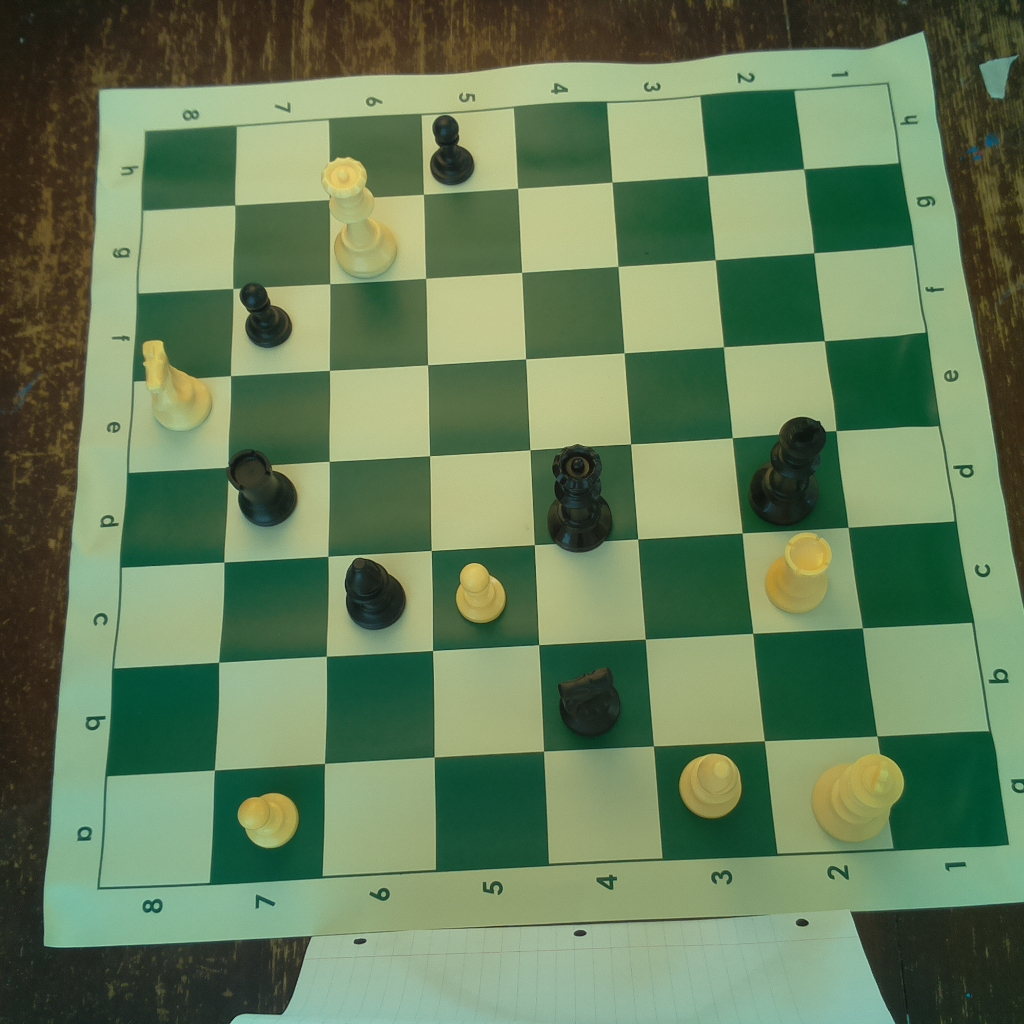black_bishop: (344, 556, 408, 632)
black_king: (750, 414, 829, 527)
black_knight: (553, 656, 624, 740)
black_pawn: (237, 278, 297, 348), (427, 109, 479, 188)
black_queen: (545, 439, 616, 556)
black_rook: (225, 441, 301, 527)
file_a: (99, 731, 1011, 890)
file_b: (106, 622, 993, 780)
file_c: (112, 521, 975, 670)
file_d: (115, 425, 958, 569)
file_e: (124, 331, 942, 475)
file_f: (134, 240, 927, 382)
file_g: (136, 160, 916, 293)
file_h: (141, 80, 905, 213)
outline: (97, 80, 1012, 895)
rank_1: (792, 80, 1014, 851)
rank_2: (699, 88, 894, 860)
rank_3: (602, 95, 784, 862)
rank_4: (514, 100, 662, 869)
rank_5: (421, 105, 550, 879)
rank_6: (318, 113, 437, 880)
rank_7: (208, 121, 341, 888)
rank_8: (99, 126, 242, 897)
white_bishop: (675, 749, 746, 822)
white_king: (807, 753, 907, 843)
white_knight: (137, 335, 214, 432)
white_pawn: (232, 782, 303, 852), (454, 558, 514, 626)
white_queen: (321, 153, 405, 277)
white_rook: (762, 526, 836, 618)
